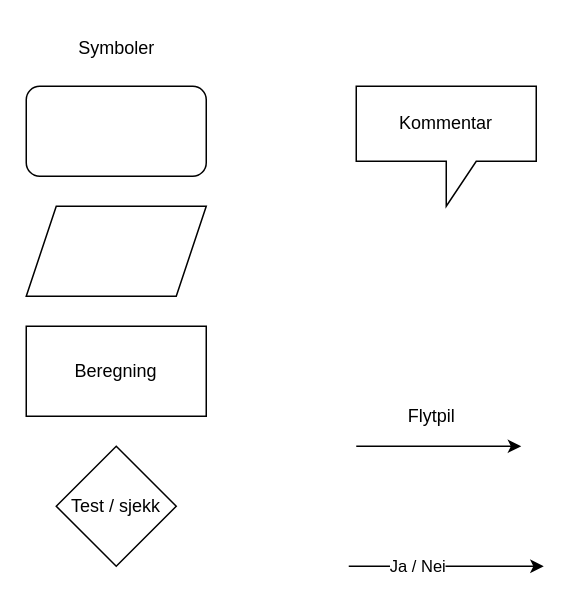
The diagram is 582 pixels wide and 605 high, and some of its shapes have lost their labels. The box of each missing label's shape, as (x1, y1, x2, y2) in pixels:
Les / skriv: (25, 205, 206, 296)
Start / stopp: (25, 85, 206, 176)
